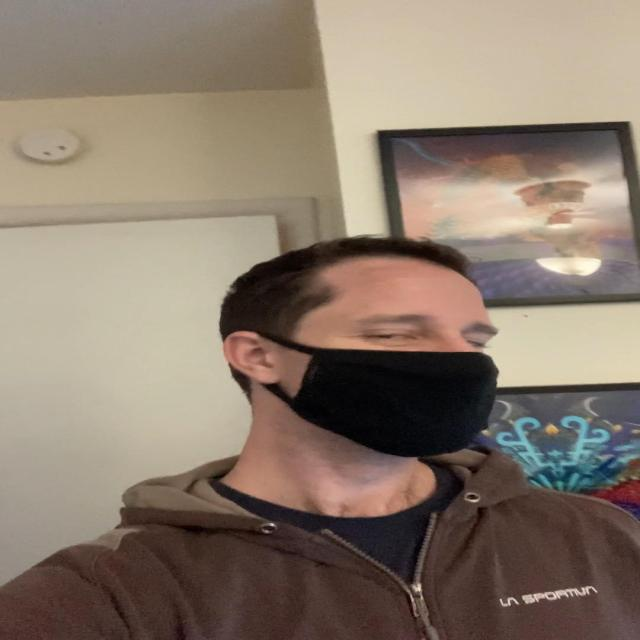no-helmet: (223, 249, 512, 471)
